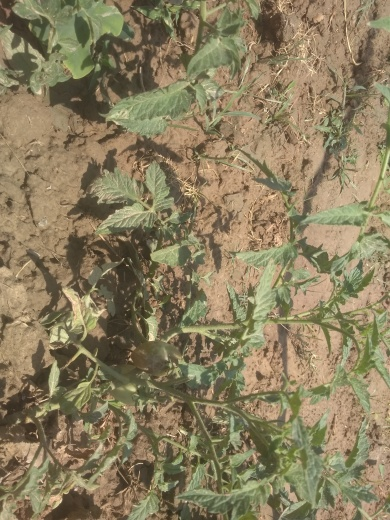tomato diseased leaf: (59, 290, 115, 348)
tomato plant: (37, 298, 311, 479), (93, 178, 267, 402)
